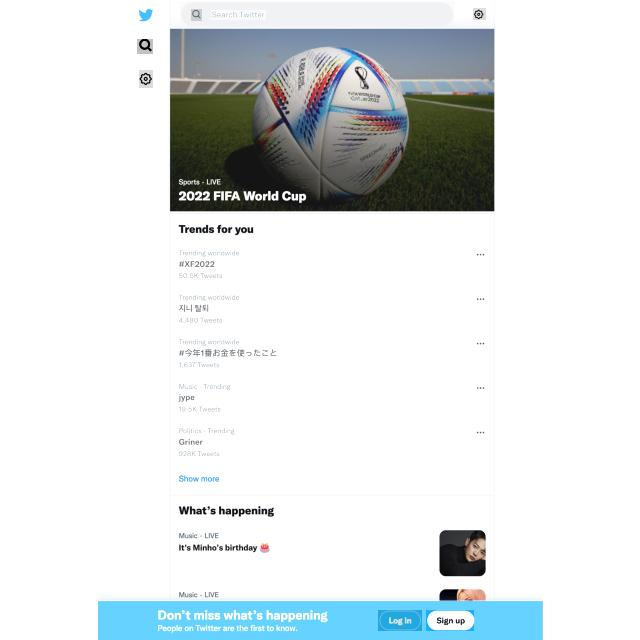CheckBox: (426, 610, 474, 631), (378, 610, 422, 631)
CheckedTextView: (180, 1, 454, 27)
QR code: (177, 242, 285, 461)
card: (170, 29, 494, 211)
carousel: (137, 40, 153, 56), (139, 70, 153, 88), (473, 8, 488, 20), (191, 9, 202, 21)
date picker: (135, 4, 156, 26)
footer: (211, 10, 266, 20)
header: (98, 600, 542, 640)
